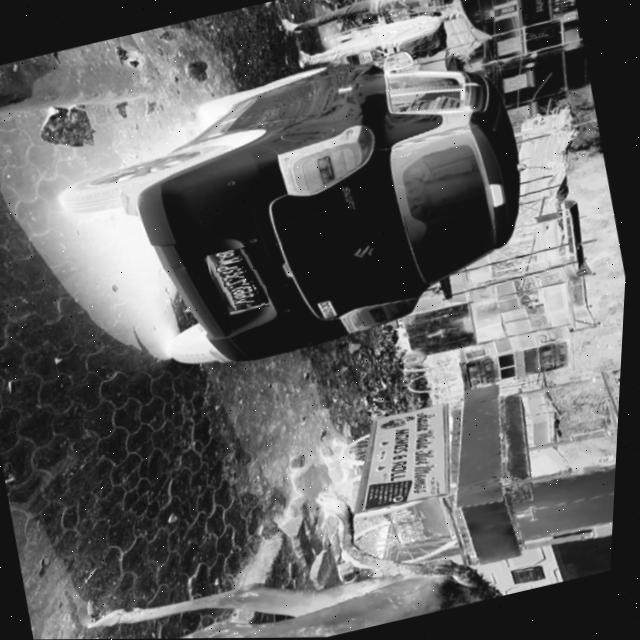0: (222, 267, 247, 278)
1: (235, 297, 261, 307)
7: (223, 272, 250, 283)
8: (238, 301, 264, 313)
9: (234, 291, 260, 302), (233, 287, 257, 297)
G: (230, 282, 255, 293)
IND: (221, 251, 240, 262)
Indian_registered: (209, 248, 272, 311)
M: (218, 257, 243, 268)
P: (217, 261, 244, 274)
Z: (225, 276, 253, 288)
